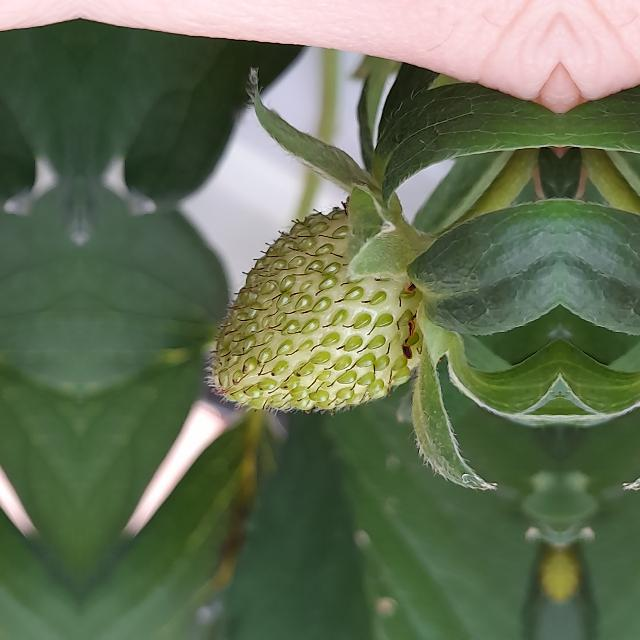Health_25: (202, 203, 436, 417)
